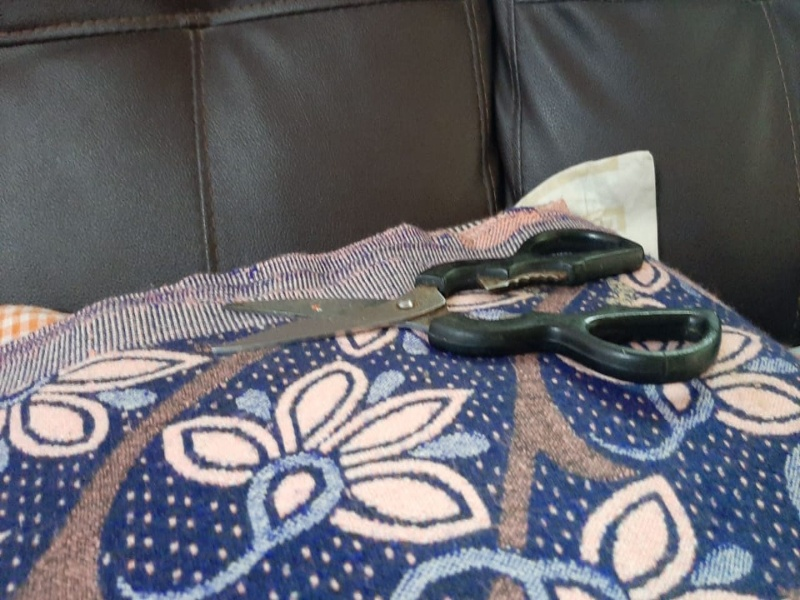scissor: (218, 226, 724, 386)
